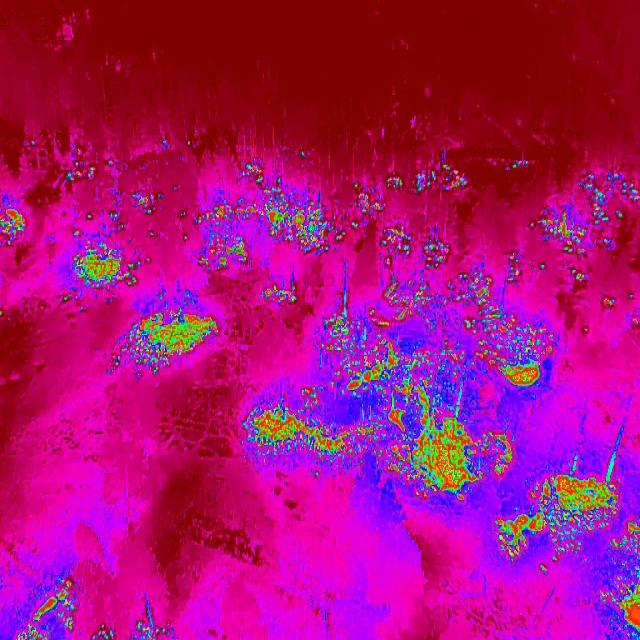fire: (184, 156, 378, 306), (390, 268, 558, 390), (490, 465, 632, 576), (380, 390, 515, 506), (238, 387, 380, 471), (531, 167, 640, 256), (321, 302, 414, 392), (112, 308, 222, 377), (63, 226, 144, 296), (600, 517, 640, 640), (15, 575, 78, 640), (376, 223, 451, 272), (386, 162, 474, 196), (91, 616, 175, 640), (0, 200, 26, 250), (62, 153, 96, 187), (124, 189, 164, 216), (506, 156, 538, 174), (597, 291, 619, 311), (570, 266, 590, 286)
